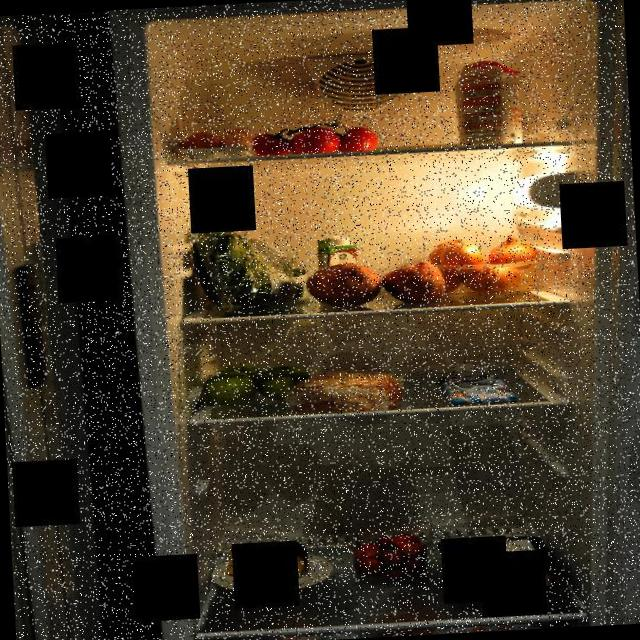Carne pollo: (436, 533, 574, 607)
Cebolla: (424, 231, 543, 303)
Huevos: (180, 126, 256, 160)
Manzana: (199, 358, 318, 408)
Queso: (223, 541, 313, 582)
Tomate: (242, 112, 382, 159)
